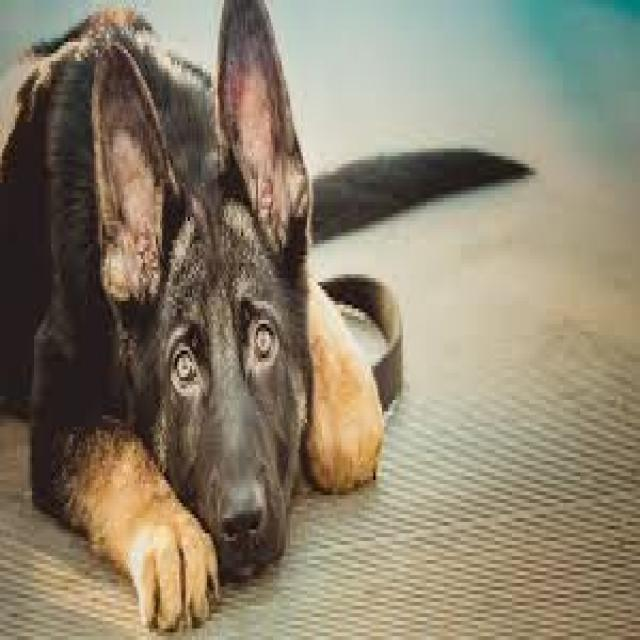Dog: (0, 0, 388, 640)
